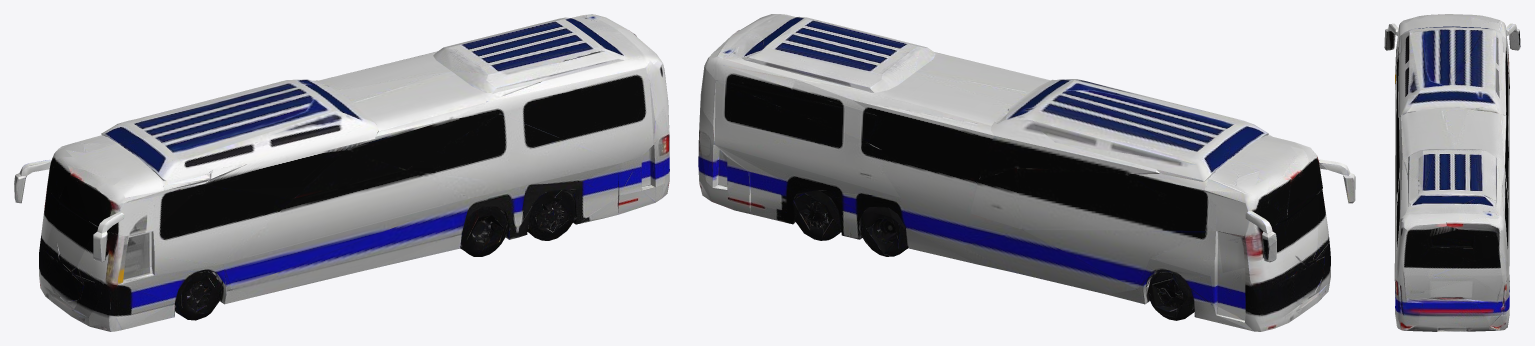
Rendered from traffic_bus.glb.
3 renders of one model, left to right at view 1: azimuth 30°, elevation 25°; view 2: azimuth 150°, elevation 25°; view 3: azimuth 270°, elevation 25°, orthographic. The views are drawn at different scales.
Bounding box in the file's own units: 1.9 × 0.5316 × 0.4889.
1 material, 1 textured.
